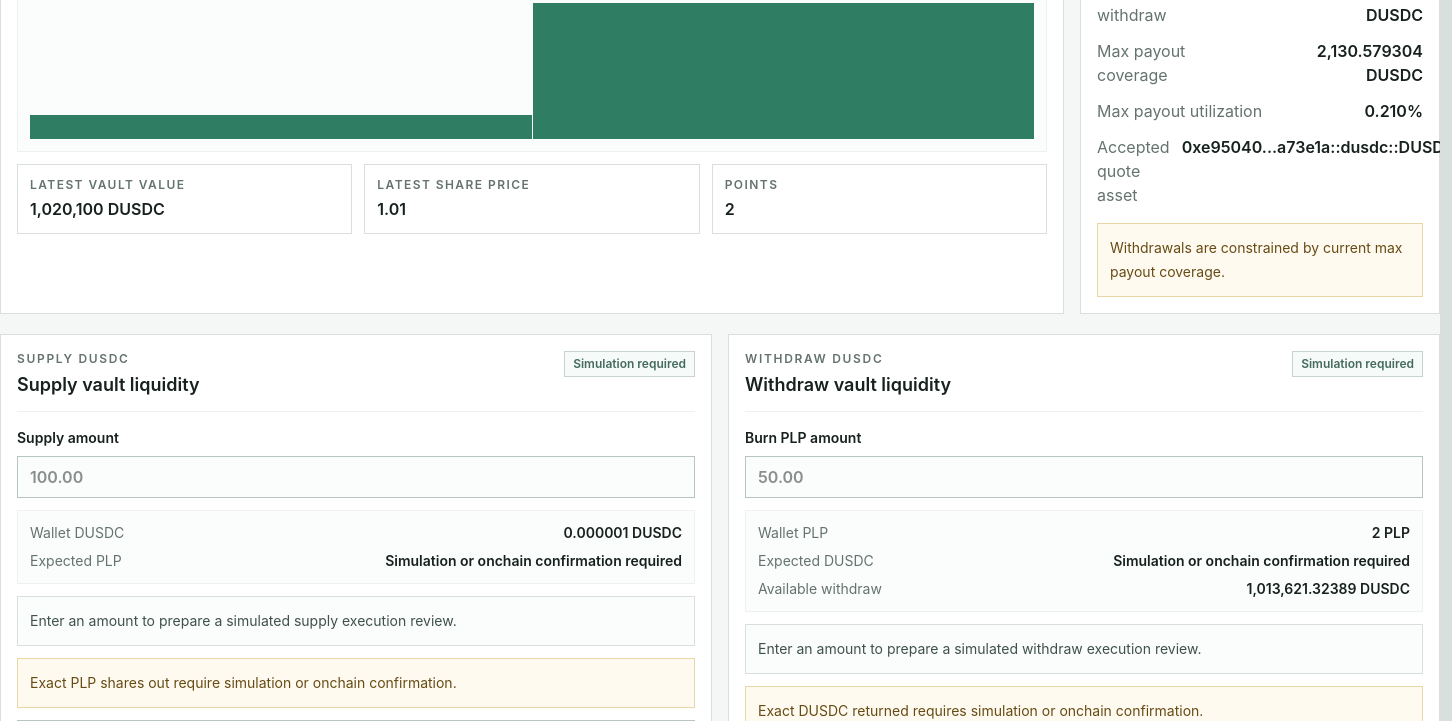
Test case: VaultPage › blocks supply execution review when wallet DUSDC is insufficient
(page scrolled)
In the field labelled "Supply amount": (356, 477) [17,456,695,498], type "1.5"
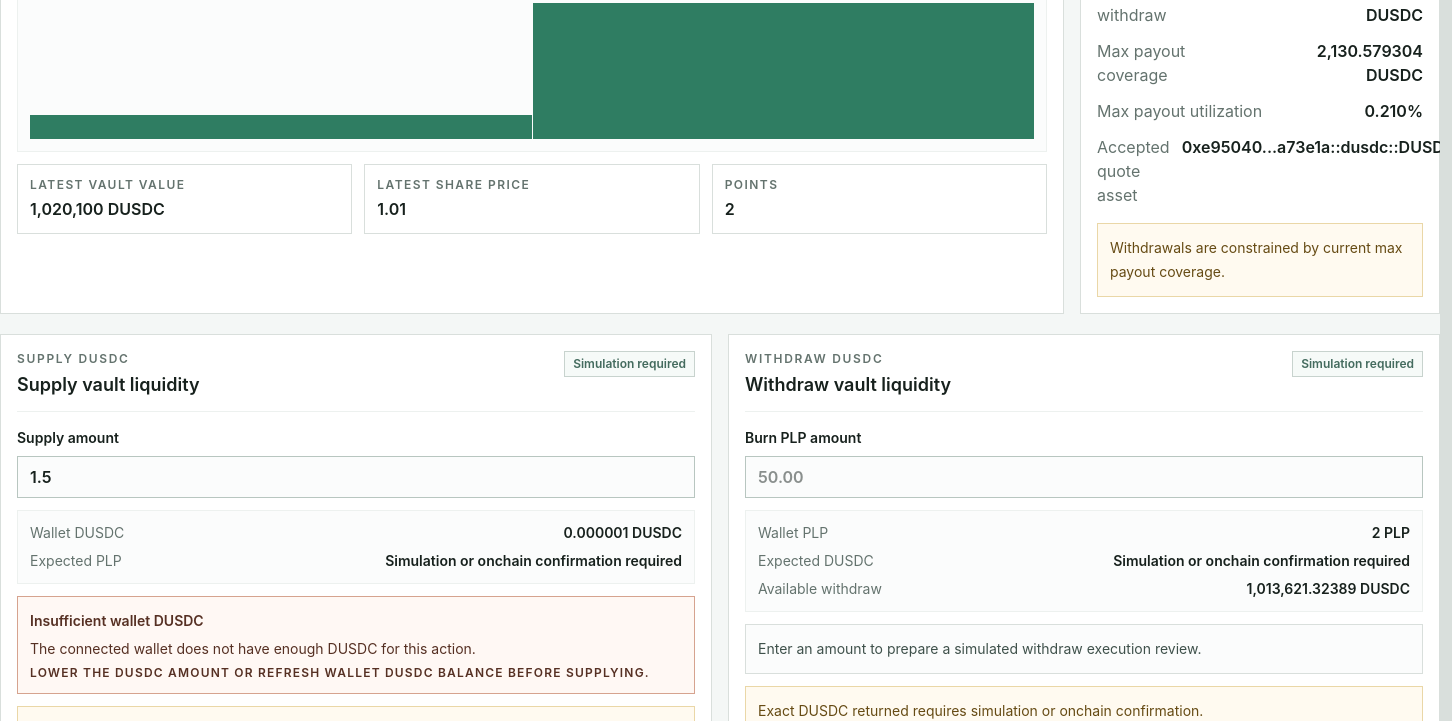
Result: the text "The connected wallet does not have enough DUSDC for this action." is shown at [30,640,476,657]
